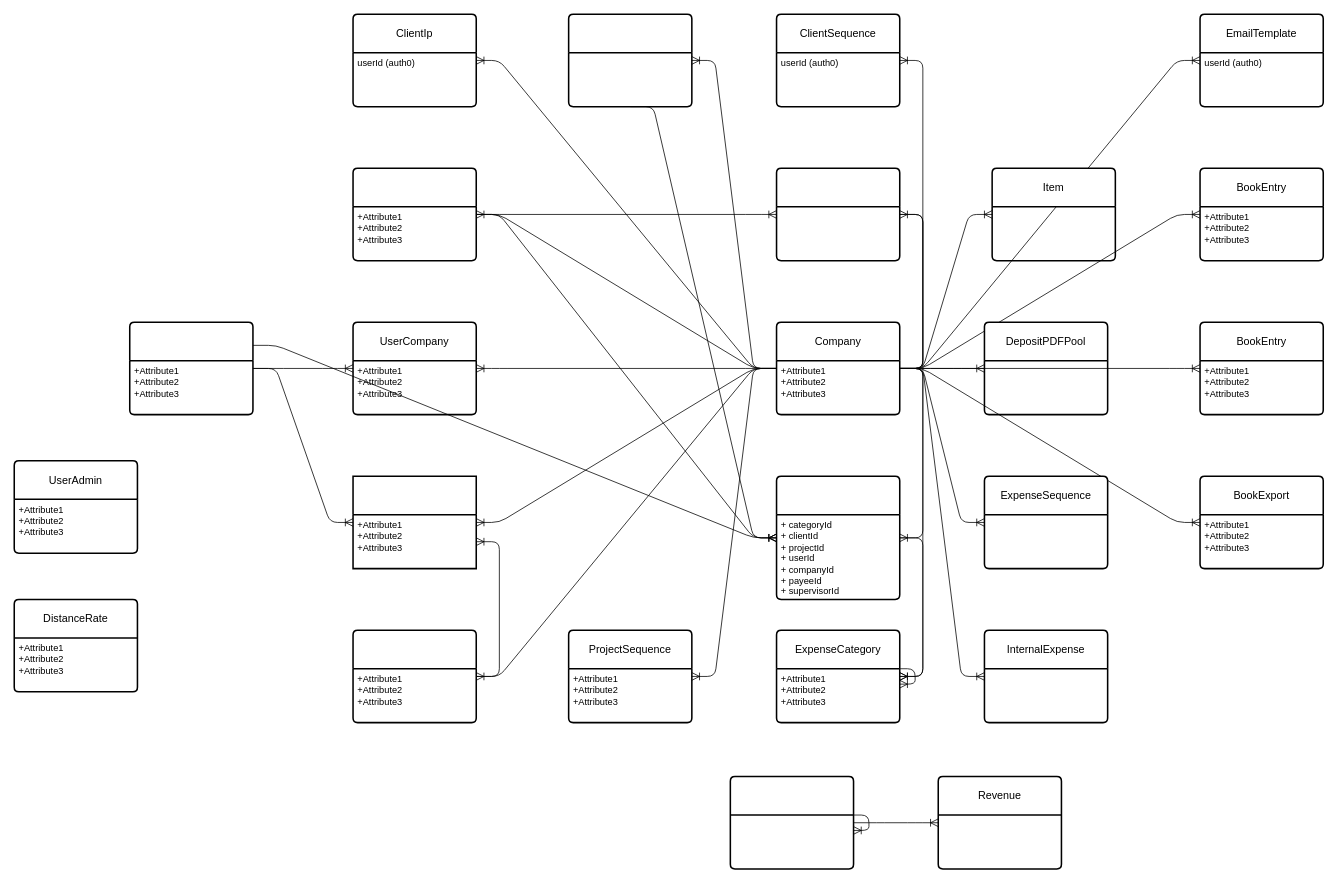
The diagram is 1337 pixels wide and 882 high, and some of its shapes have lost their labels. Each missing label, with the box of its shape:
Client: (352, 167, 477, 261)
ClientProject: (775, 167, 900, 261)
Expense: (775, 475, 900, 600)
Provider: (567, 13, 692, 107)
RevenueCategory: (729, 775, 854, 869)
Role: (352, 629, 477, 723)
User: (129, 321, 253, 415)
UserRole: (352, 475, 477, 569)
